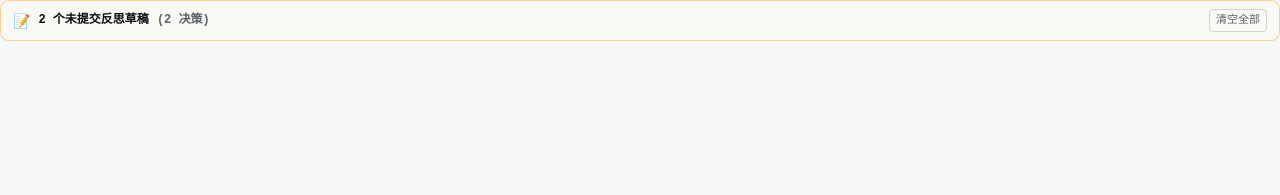
Scenario: DraftSummaryBanner — 折叠 / 展开 › 展开后显示每个决策行 + 文字预览
Step 1. Click the button "2 个未提交反思草稿 (2 决策)" → (124, 20), box [38,11,210,29]
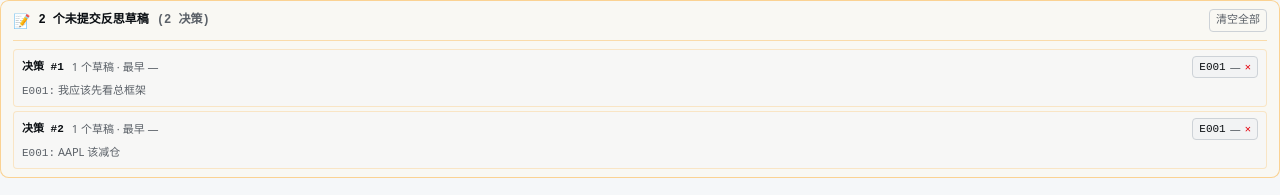
Check: the list item with test id "draft-row-1" is shown, box [13,48,1267,106]
Check: the list item with test id "draft-row-2" is shown, box [13,110,1267,168]
Check: the text "E001:" next to "我应该先看总框架" is shown, box [22,85,55,97]
